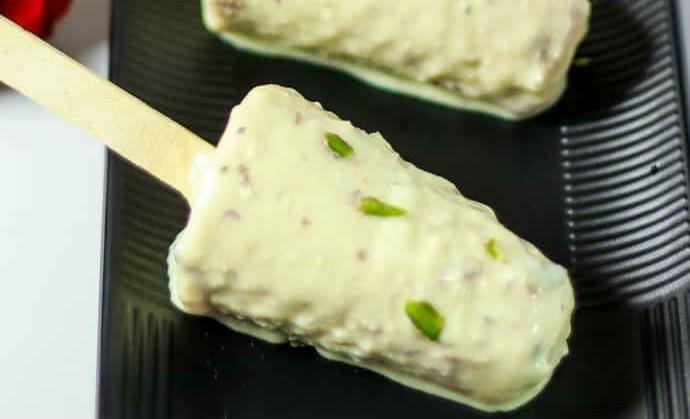Kulfi: (165, 84, 575, 410), (200, 0, 592, 118)
